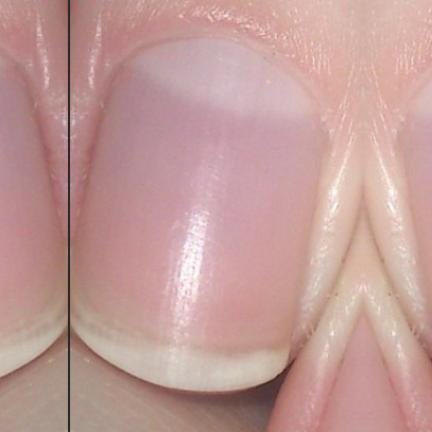Nail: (71, 37, 320, 392), (0, 53, 65, 377), (405, 78, 432, 326)
